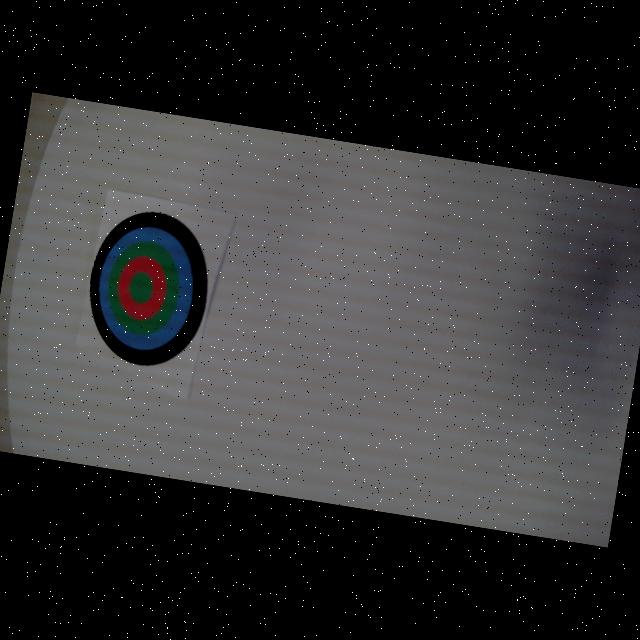COGNITIVE: (78, 202, 220, 376)
